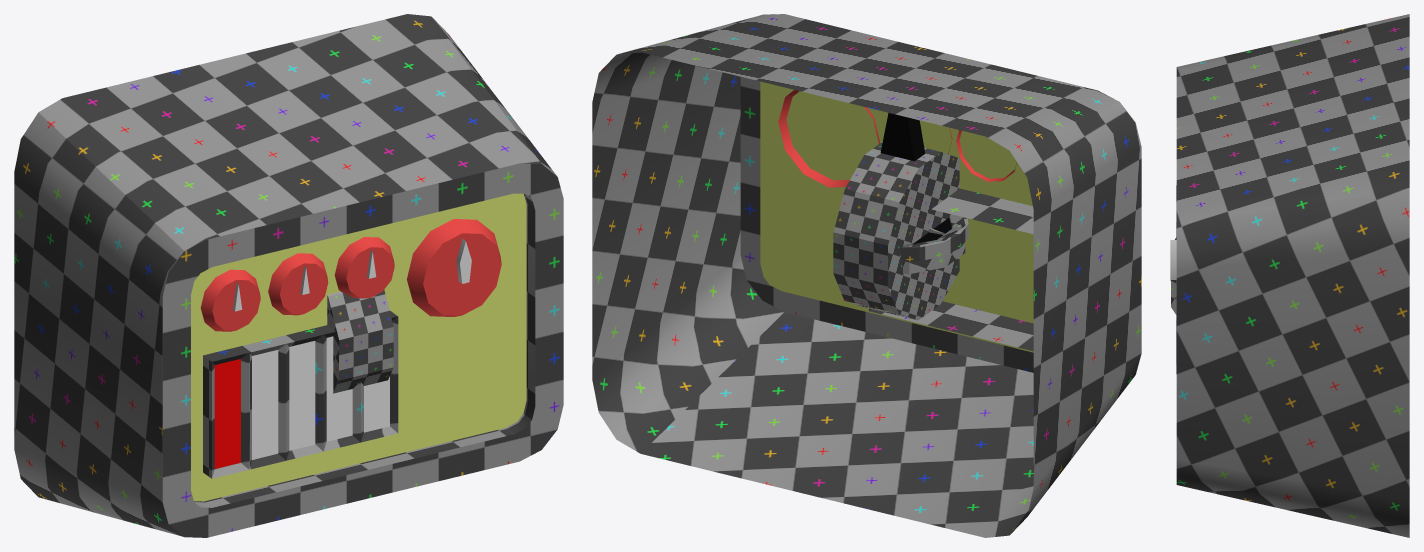
Rendered from Submarine_Props.glb.
3 views of the same model, side by side, from view 1: azimuth 30°, elevation 25°; view 2: azimuth 150°, elevation 25°; view 3: azimuth 270°, elevation 25° (orthographic). The views are drawn at different scales.
Visible parts, largest first — view 1: Panel, Lever; view 2: Panel, Lever, SemicircleMeter, CircleMeter; view 3: Panel.
Part boxes in pixels (x1,y1,x2,y2): Panel: (14,14,563,537); Lever: (327,290,393,393); Panel: (592,14,1141,537); Lever: (833,113,959,320); SemicircleMeter: (901,217,968,261); CircleMeter: (903,214,965,274); Panel: (1176,14,1409,537).
Bounding box in the file's own units: 0.3911 × 0.34 × 0.2021.
Materials: 8 (2 with a texture image).
